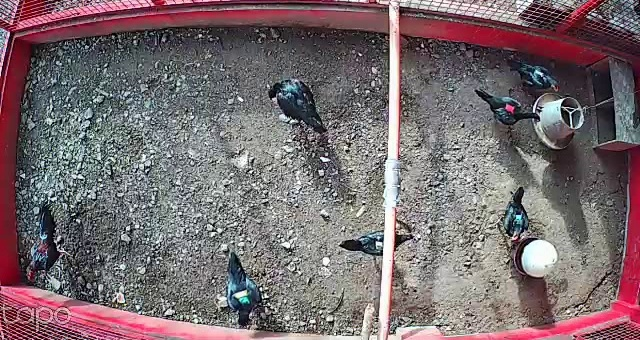Chicken: (259, 73, 327, 139), (225, 253, 265, 334), (472, 83, 542, 129), (488, 184, 534, 243), (337, 230, 412, 257), (511, 58, 562, 95)
Rooster: (23, 200, 75, 287)
Saddle_Color_Blue: (515, 214, 523, 222)
Saddle_Color_Red: (505, 103, 516, 113)
Saddle_Color_Yellow: (376, 241, 383, 248)
Saddle_Color_YellowGreen: (233, 289, 250, 306)
